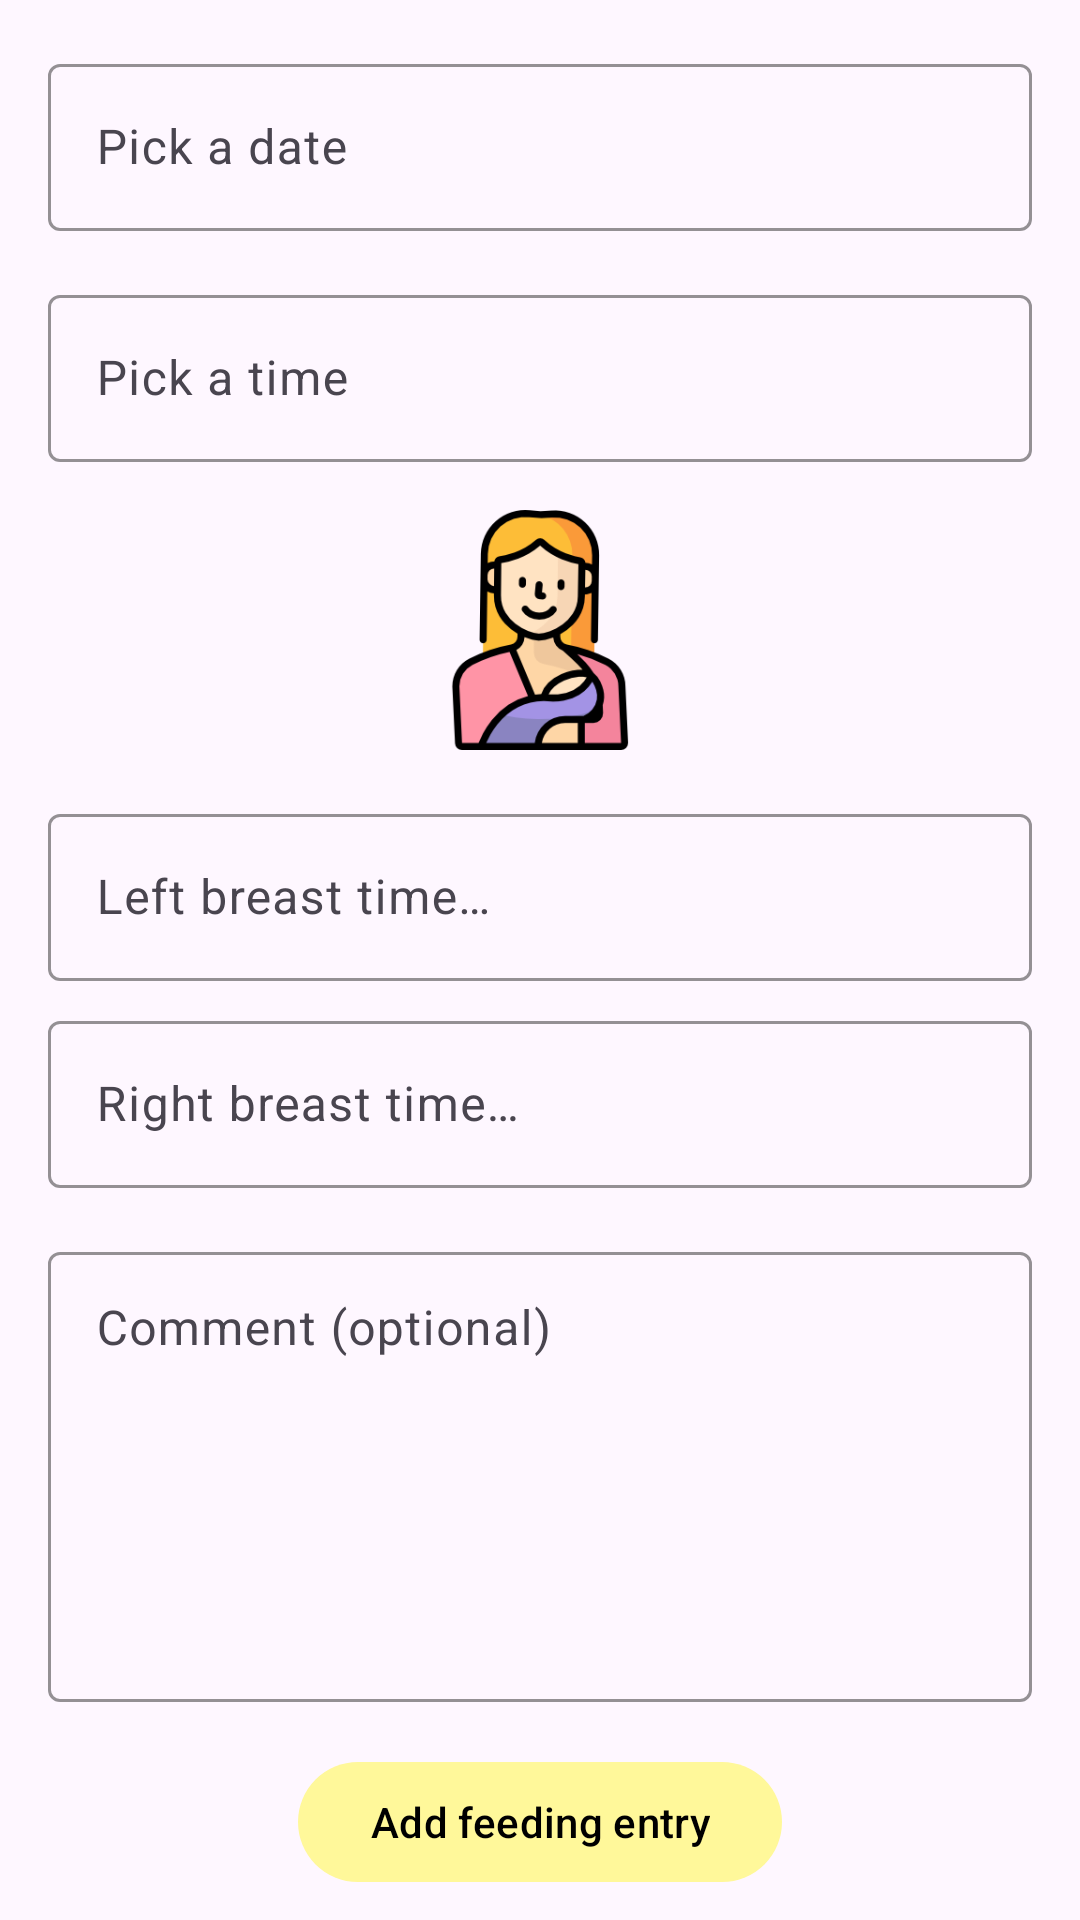

Named icons in this screenshot (1080px x 1920px) and their centers, point (x, y):
breastfeeding: point (540, 630)
